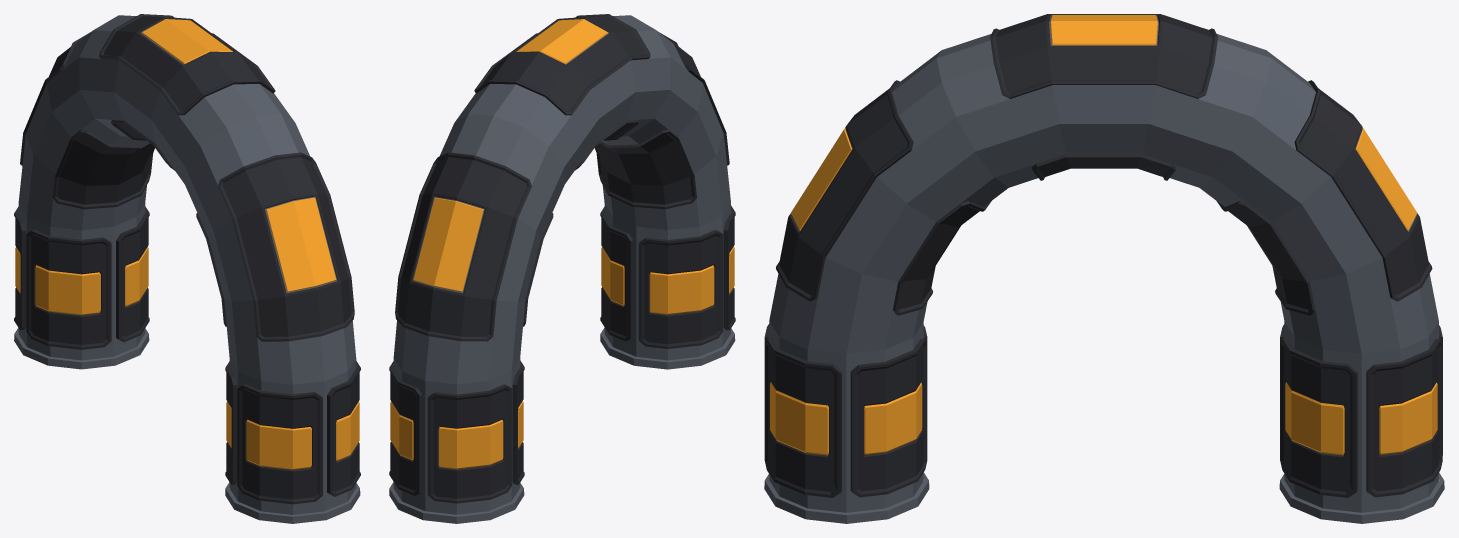
The model's file is SM_U-turn_pipe.glb.
3 views of the same model, side by side, from view 1: azimuth 30°, elevation 25°; view 2: azimuth 150°, elevation 25°; view 3: azimuth 270°, elevation 25° (orthographic). The views are drawn at different scales.
Parts seen in each view (by area): view 1: SM_U-turn_pipe; view 2: SM_U-turn_pipe; view 3: SM_U-turn_pipe.
Boxes of the visible parts, x1,y1,x2,y2 form: SM_U-turn_pipe: (14,14,360,523); SM_U-turn_pipe: (389,14,735,523); SM_U-turn_pipe: (764,14,1444,523).
Bounding box in the file's own units: 0.6403 × 2 × 2.64.
Materials: 1 (1 with a texture image).
